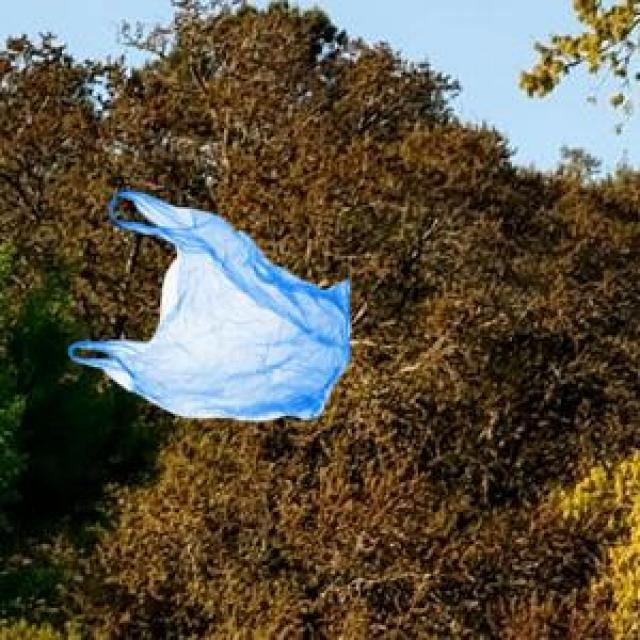waste: (73, 190, 355, 430)
